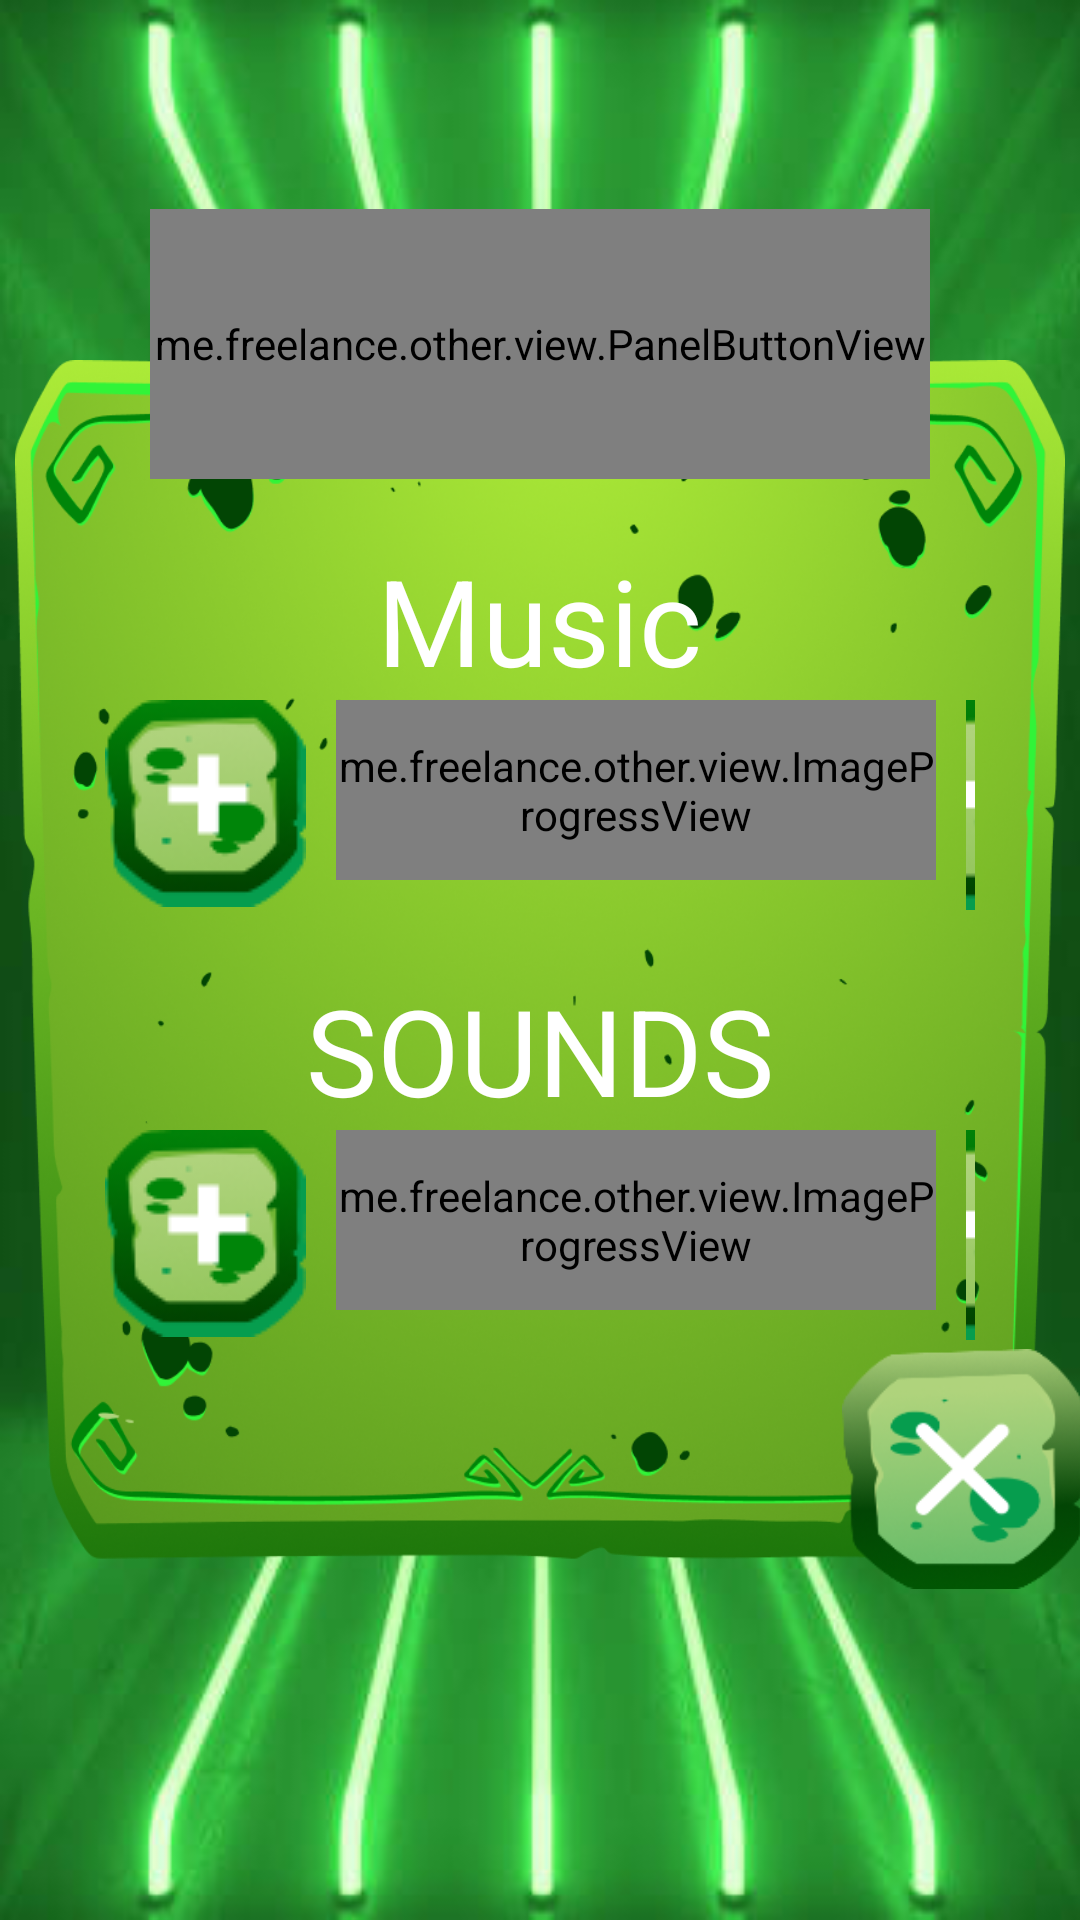

Where to tap for icons on this 1080w x 1920h app screen, as [x,y]:
exit: [961,1469]
plus: [205,803], [205,1233]
